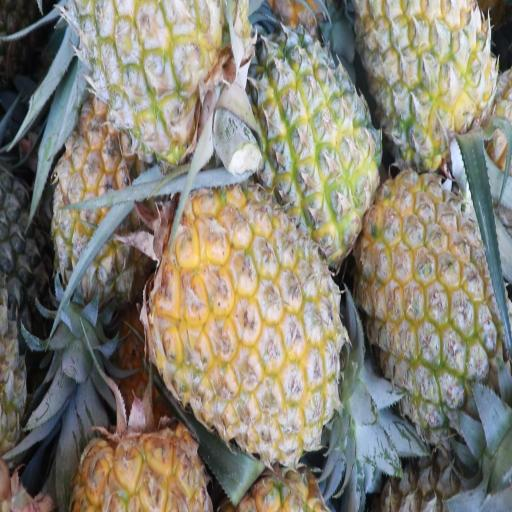------------------------------: (79, 0, 257, 167), (57, 97, 141, 304)
Pineapple - v8 v1: (152, 188, 345, 444), (366, 174, 499, 414), (250, 28, 373, 250), (362, 0, 492, 156)
